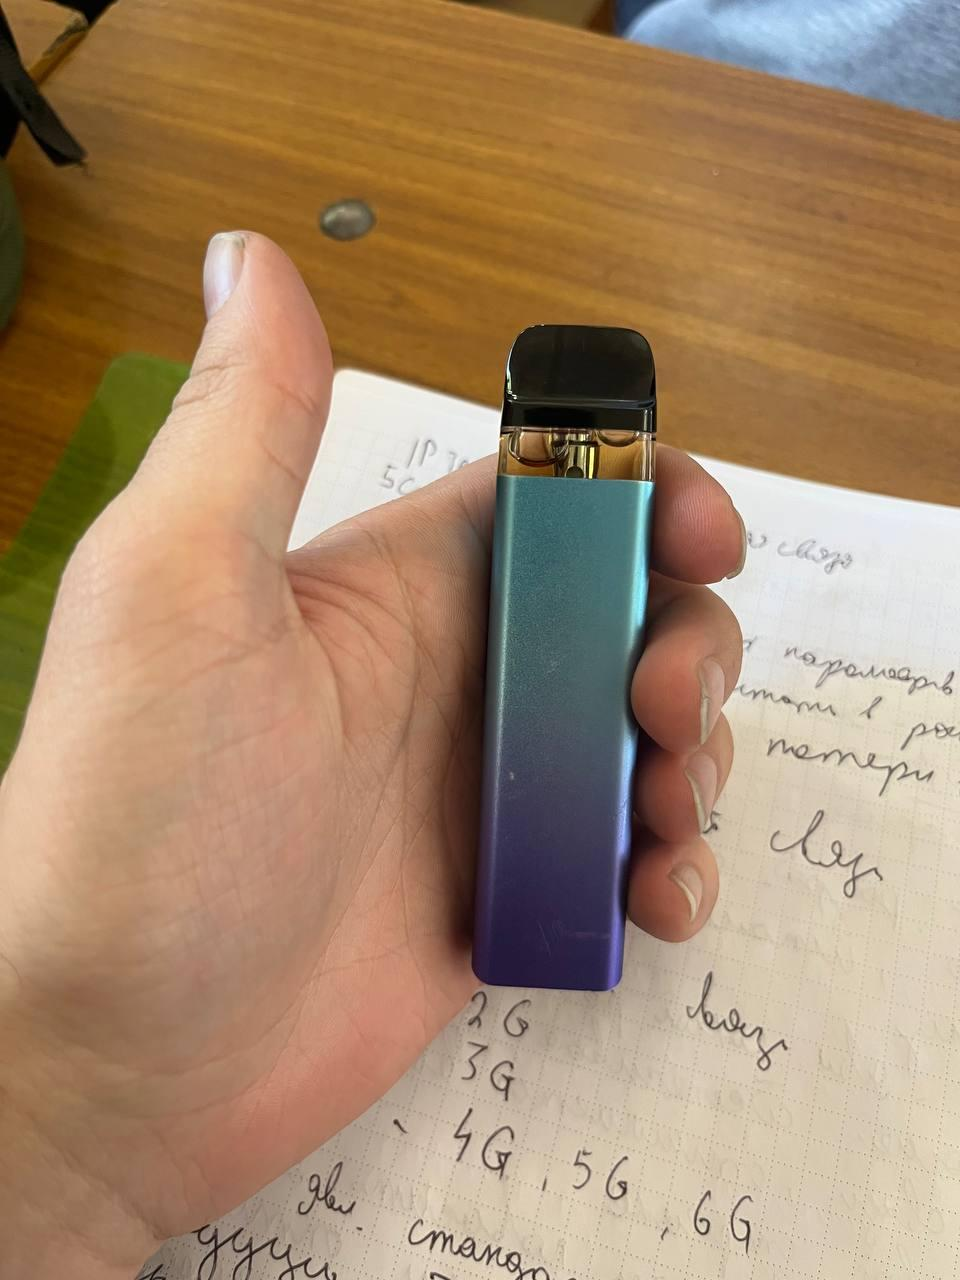Vape: (473, 325, 655, 990)
